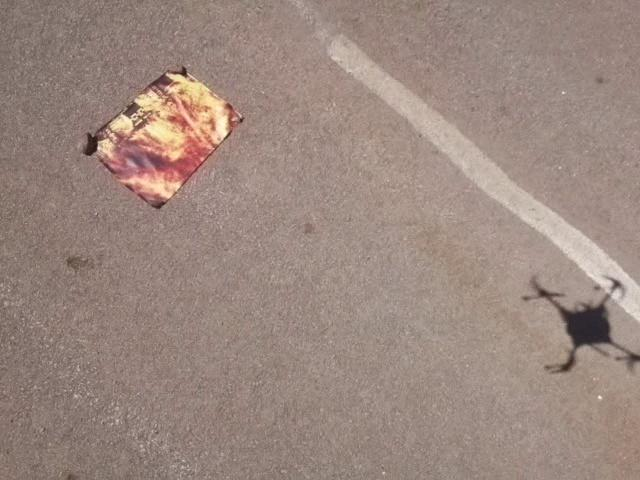fire-poster: (83, 64, 245, 211)
